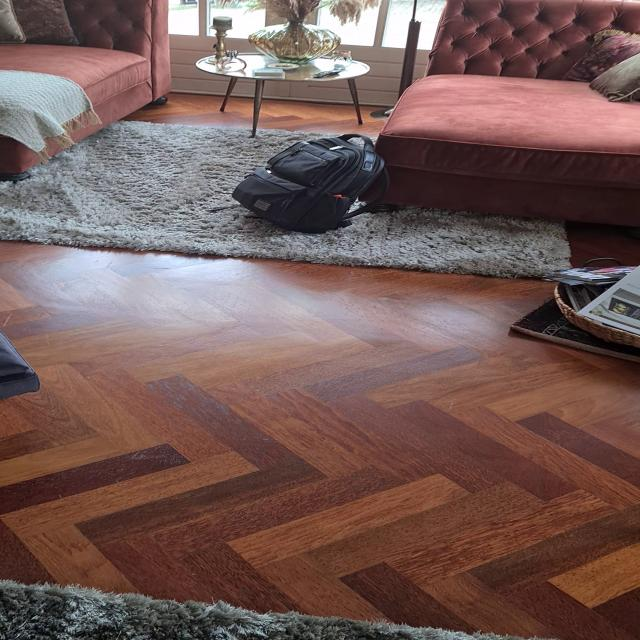backpack: (224, 130, 398, 235)
